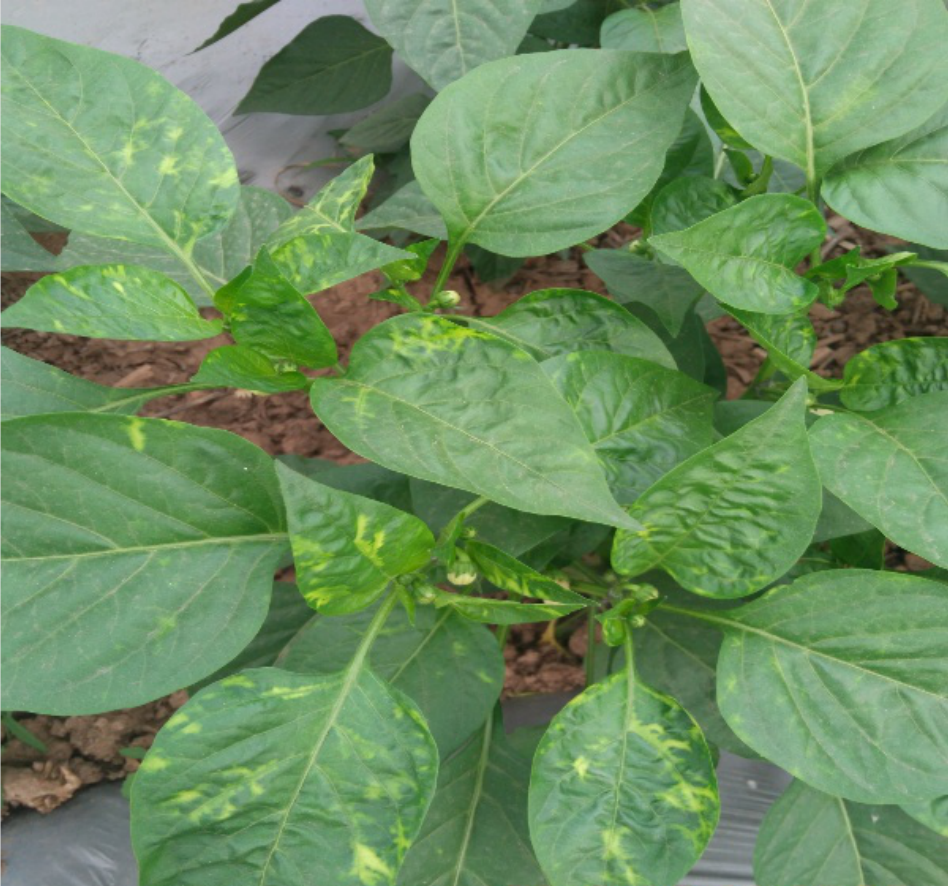iouv: (128, 668, 440, 886), (1, 24, 238, 250), (527, 670, 722, 884), (275, 463, 434, 615), (2, 259, 219, 345), (265, 153, 376, 291), (350, 315, 536, 365)
